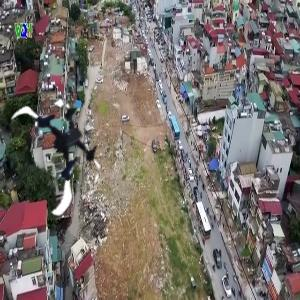drone: (2, 90, 116, 204)
